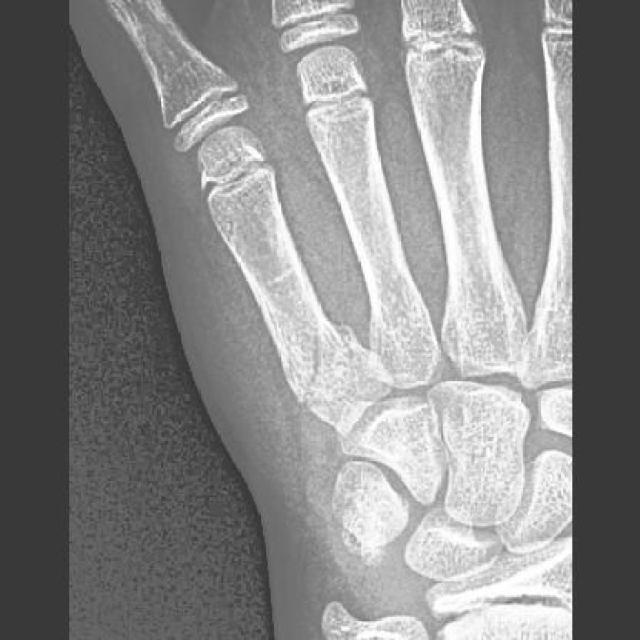Fracture: (268, 285, 362, 407)
